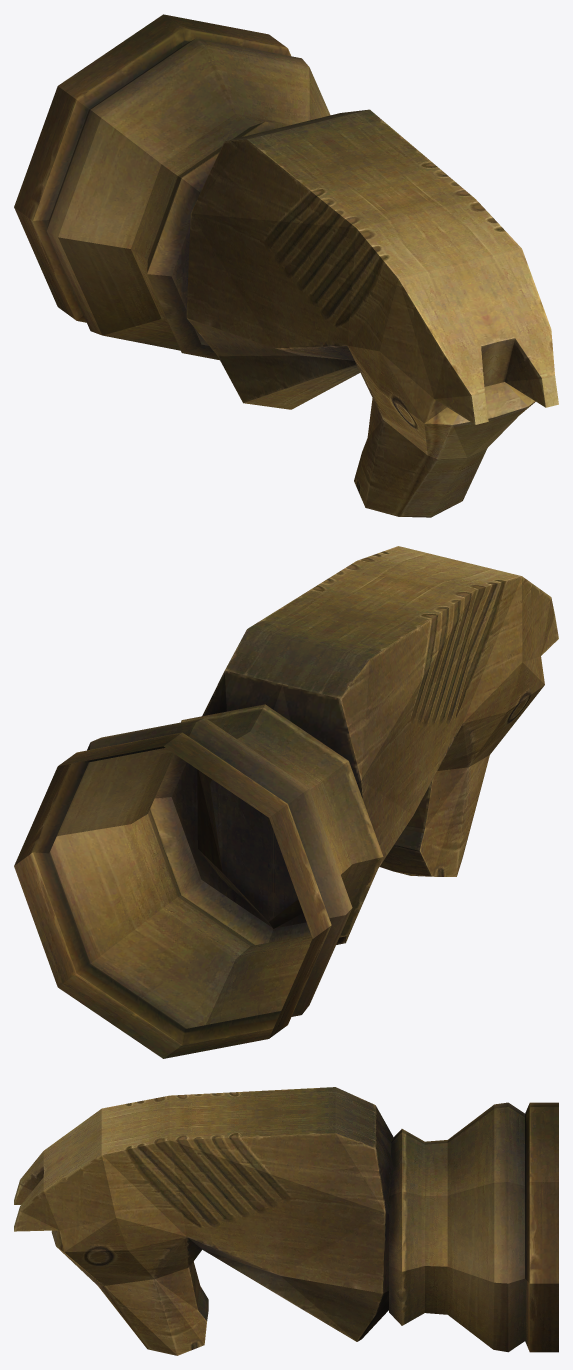
File: juqing_fuben_544_qizi_02a.obj
3 renders of one model, top to bottom at view 1: azimuth 30°, elevation 25°; view 2: azimuth 150°, elevation 25°; view 3: azimuth 270°, elevation 25°, orthographic. The views are drawn at different scales.
Visible parts, largest first — view 1: juqing_fuben_544_qizi_02a; view 2: juqing_fuben_544_qizi_02a; view 3: juqing_fuben_544_qizi_02a.
Part boxes in pixels (x1=…): juqing_fuben_544_qizi_02a: x1=14, y1=14, x2=558, y2=517; juqing_fuben_544_qizi_02a: x1=14, y1=546, x2=558, y2=1058; juqing_fuben_544_qizi_02a: x1=14, y1=1087, x2=558, y2=1355.
Size of the model in its own units: 128 by 128 by 262.
1 material, 1 textured.
